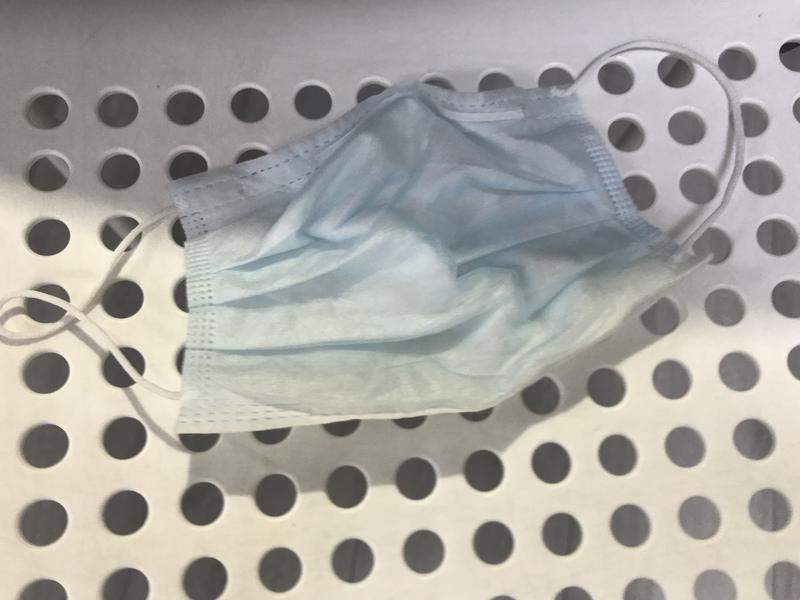medical_mask: (6, 40, 745, 437)
